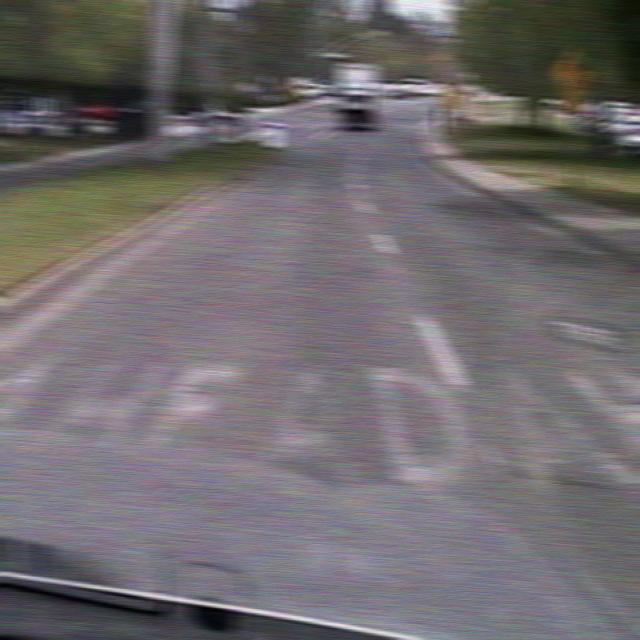pedestrianCrossing: (549, 47, 595, 96)
